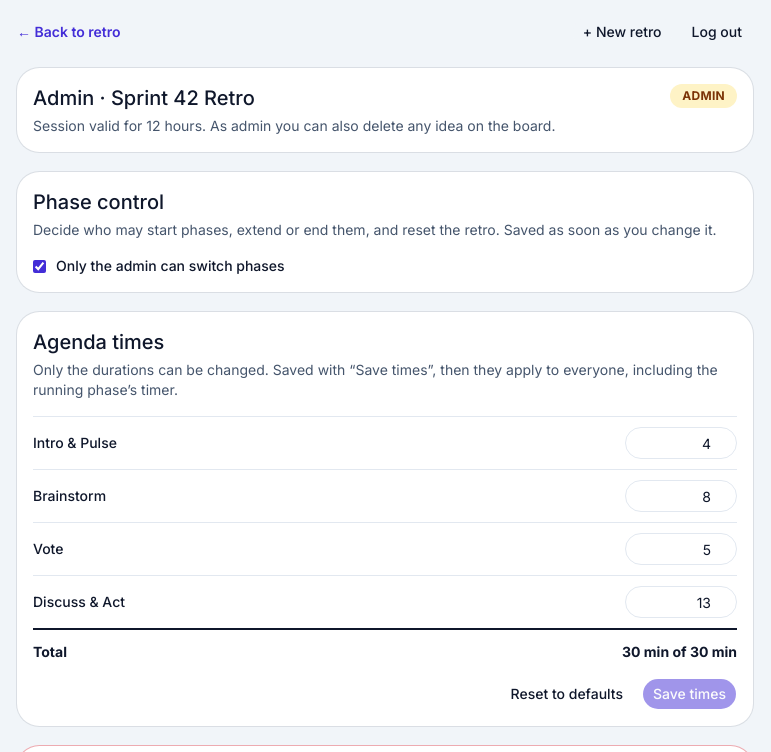
it: AdminScreen panel › logs out
The image size is (771, 752).
Click the button "Log out": (717, 32) [681,16,753,48]
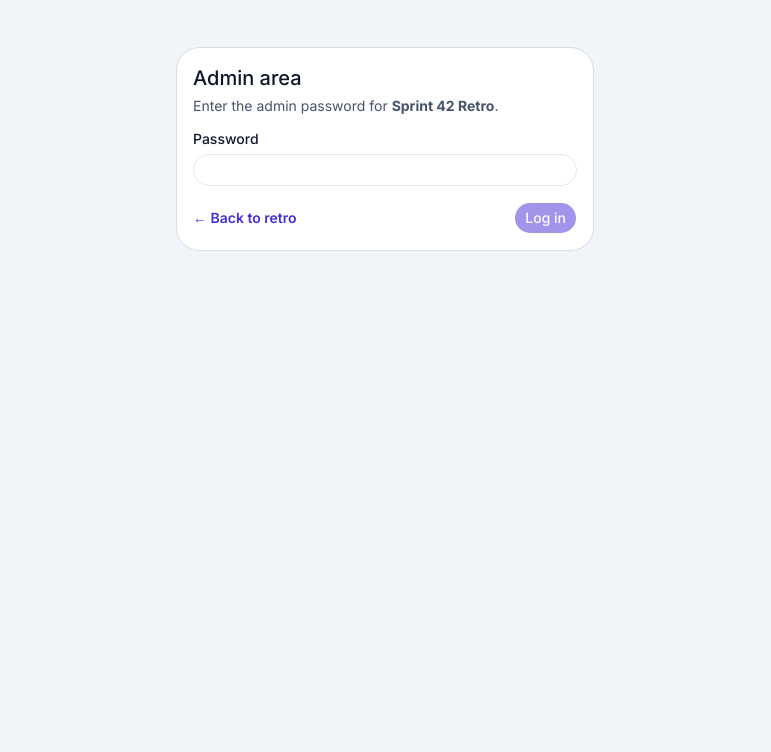
Check: the password field labelled "Password" is shown, box [193,154,577,186]
